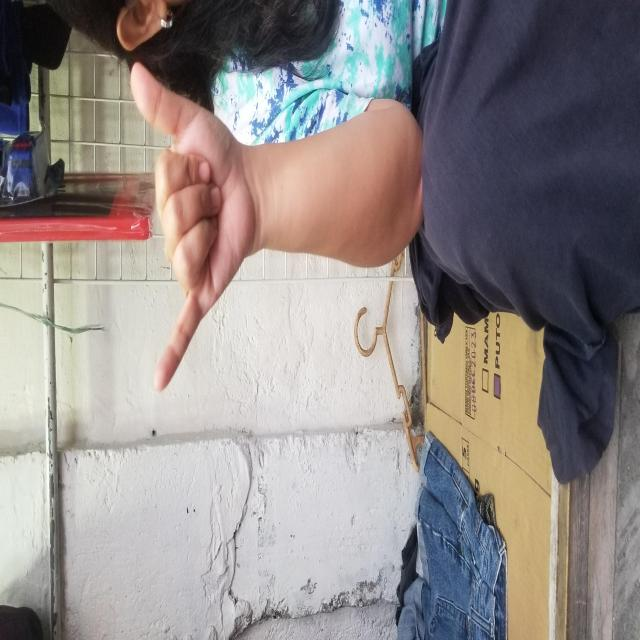Y: (113, 57, 301, 431)
